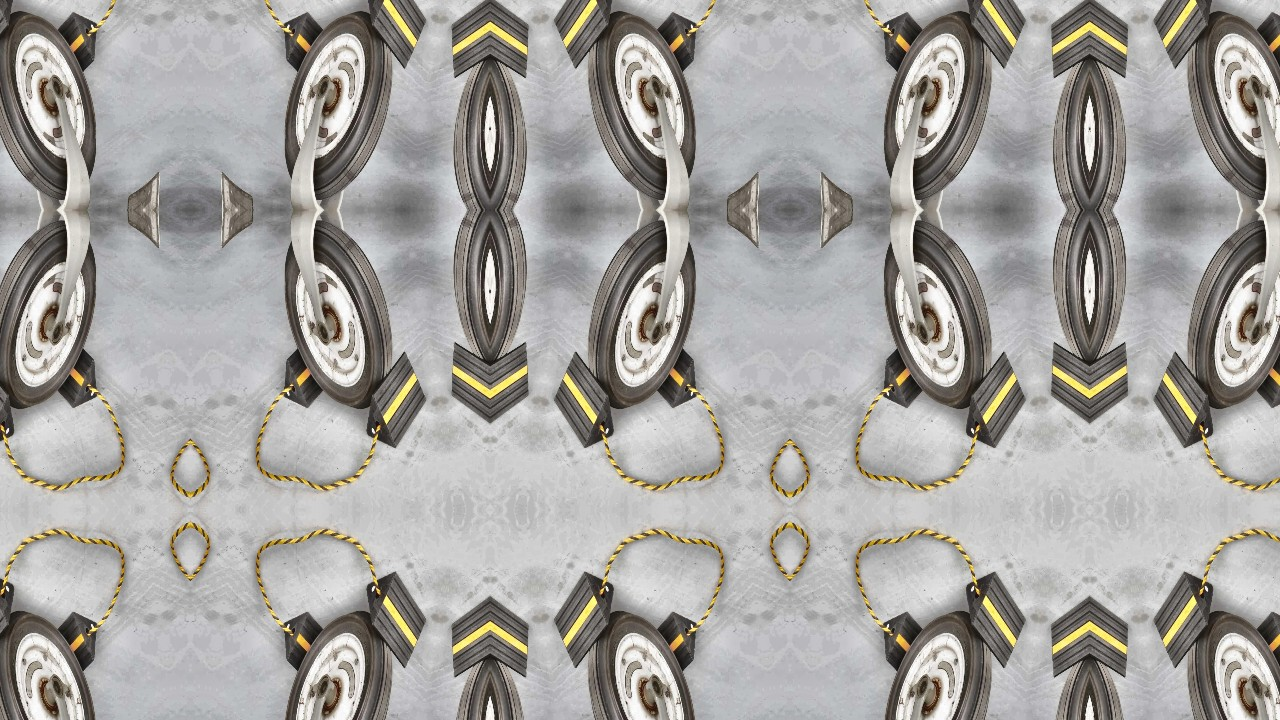chock: (351, 348, 434, 454), (546, 348, 629, 454), (951, 348, 1034, 454), (1146, 348, 1229, 454), (351, 566, 434, 672), (546, 566, 629, 672), (951, 566, 1034, 672), (1146, 566, 1229, 672), (29, 6, 107, 92), (273, 6, 351, 92), (629, 6, 707, 92), (873, 6, 951, 92), (29, 328, 107, 414), (273, 328, 351, 414), (629, 328, 707, 414), (873, 328, 951, 414), (29, 606, 107, 692), (273, 606, 351, 692), (629, 606, 707, 692), (873, 606, 951, 692), (351, 0, 434, 72), (546, 0, 629, 72), (951, 0, 1034, 72), (1146, 0, 1229, 72), (442, 332, 490, 437), (490, 332, 538, 437), (1042, 332, 1090, 437), (1090, 332, 1138, 437), (442, 583, 490, 688), (490, 583, 538, 688), (1042, 583, 1090, 688), (1090, 583, 1138, 688), (1229, 6, 1280, 92), (1229, 328, 1280, 414), (1229, 606, 1280, 692), (442, 0, 490, 88), (490, 0, 538, 88), (1042, 0, 1090, 88), (1090, 0, 1138, 88), (0, 348, 29, 454), (0, 566, 29, 672), (0, 0, 29, 72)
wheel: (271, 3, 402, 207), (578, 3, 709, 207), (871, 3, 1002, 207), (271, 213, 402, 417), (578, 213, 709, 417), (871, 213, 1002, 417), (0, 3, 109, 207), (0, 213, 109, 417), (1178, 3, 1280, 207), (1178, 213, 1280, 417), (271, 603, 402, 720), (578, 603, 709, 720), (871, 603, 1002, 720), (0, 603, 109, 720), (1178, 603, 1280, 720), (439, 34, 490, 210), (490, 34, 541, 210), (1039, 34, 1090, 210), (1090, 34, 1141, 210), (439, 210, 490, 386), (490, 210, 541, 386), (1039, 210, 1090, 386), (1090, 210, 1141, 386), (439, 634, 490, 720), (490, 634, 541, 720), (1039, 634, 1090, 720), (1090, 634, 1141, 720)
